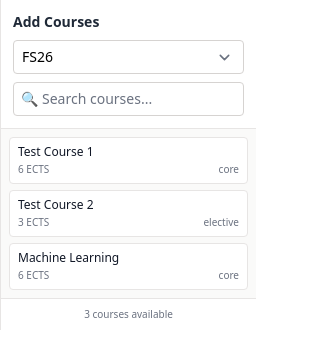
Scenario: CoursePicker › search filtering › shows no results message when search has no matches
This screenshot has width=320, height=347.
Type "nonexistent" into the field with placeholder "Search courses...". click: (128, 99)
box: [13, 82, 244, 116]
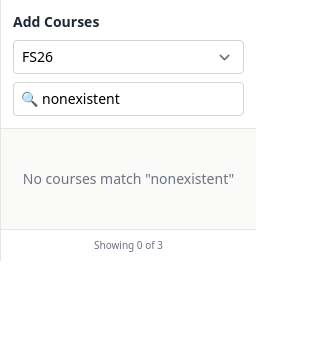
Expected: the text "No courses match \"nonexistent\"" is shown, [9, 169, 248, 189]
